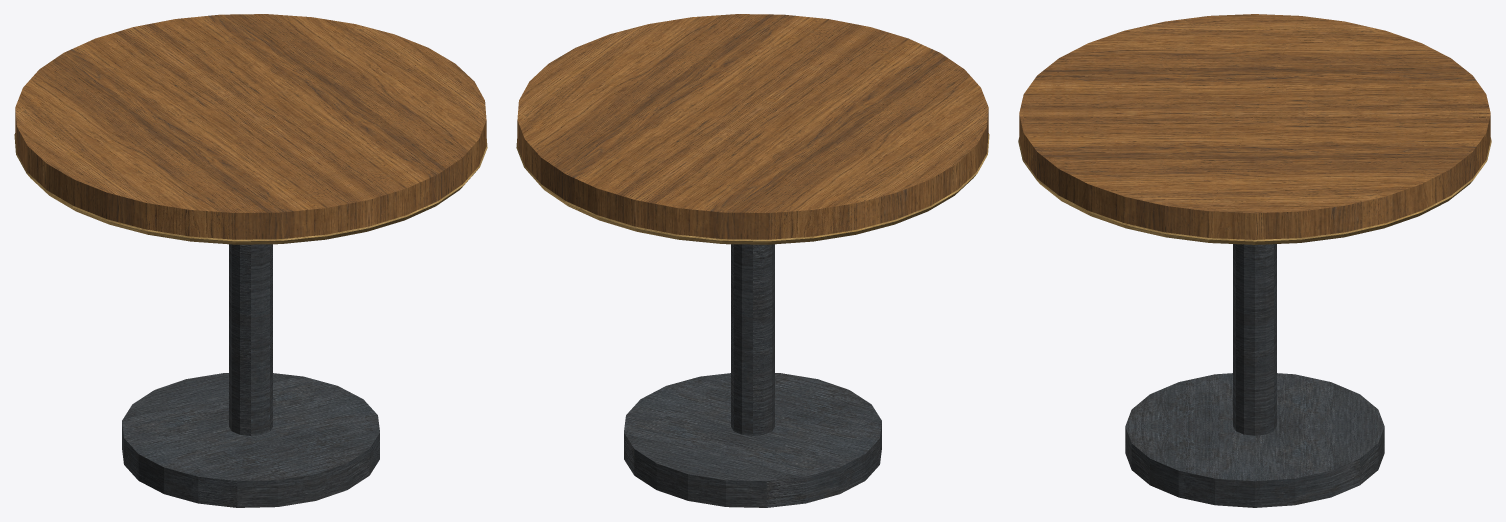
File: commons-round-table.glb
3 views of the same model, side by side, from view 1: azimuth 30°, elevation 25°; view 2: azimuth 150°, elevation 25°; view 3: azimuth 270°, elevation 25° (orthographic).
Visible parts, largest first — view 1: FURN_TableTop.015, FURN_TableBase.015, FURN_TableStem.015, FURN_TableTrim.015; view 2: FURN_TableTop.015, FURN_TableBase.015, FURN_TableStem.015, FURN_TableTrim.015; view 3: FURN_TableTop.015, FURN_TableBase.015, FURN_TableStem.015, FURN_TableTrim.015.
Part boxes in pixels (x1,y1,x2,y2): FURN_TableTop.015: (15,14,486,239); FURN_TableBase.015: (122,373,379,507); FURN_TableStem.015: (229,244,272,435); FURN_TableTrim.015: (14,133,487,244); FURN_TableTop.015: (517,14,988,239); FURN_TableBase.015: (624,373,881,507); FURN_TableStem.015: (731,244,774,435); FURN_TableTrim.015: (516,133,989,244); FURN_TableTop.015: (1019,14,1490,239); FURN_TableBase.015: (1125,373,1384,507); FURN_TableStem.015: (1233,244,1276,435); FURN_TableTrim.015: (1018,137,1491,244).
Size of the model in its own units: 0.964 by 0.7625 by 0.964.
3 materials, 3 textured.
